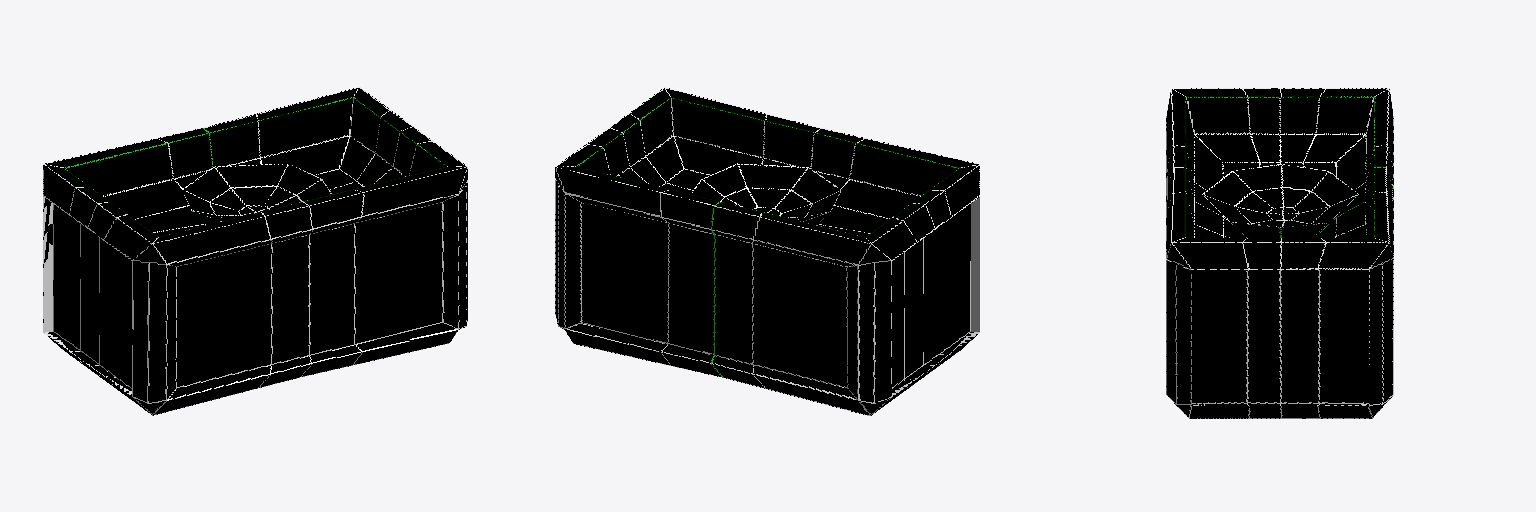
3 renders of one model, left to right at view 1: azimuth 30°, elevation 25°; view 2: azimuth 150°, elevation 25°; view 3: azimuth 270°, elevation 25°, orthographic.
Visible parts, largest first — view 1: Box001; view 2: Box001; view 3: Box001.
Boxes of the visible parts, <box> form: Box001: <box>43,87,467,415</box>; Box001: <box>555,87,979,415</box>; Box001: <box>1166,88,1393,418</box>.
Size of the model in its own units: 53.31 by 27.38 by 31.17.
Materials: 1 (1 with a texture image).